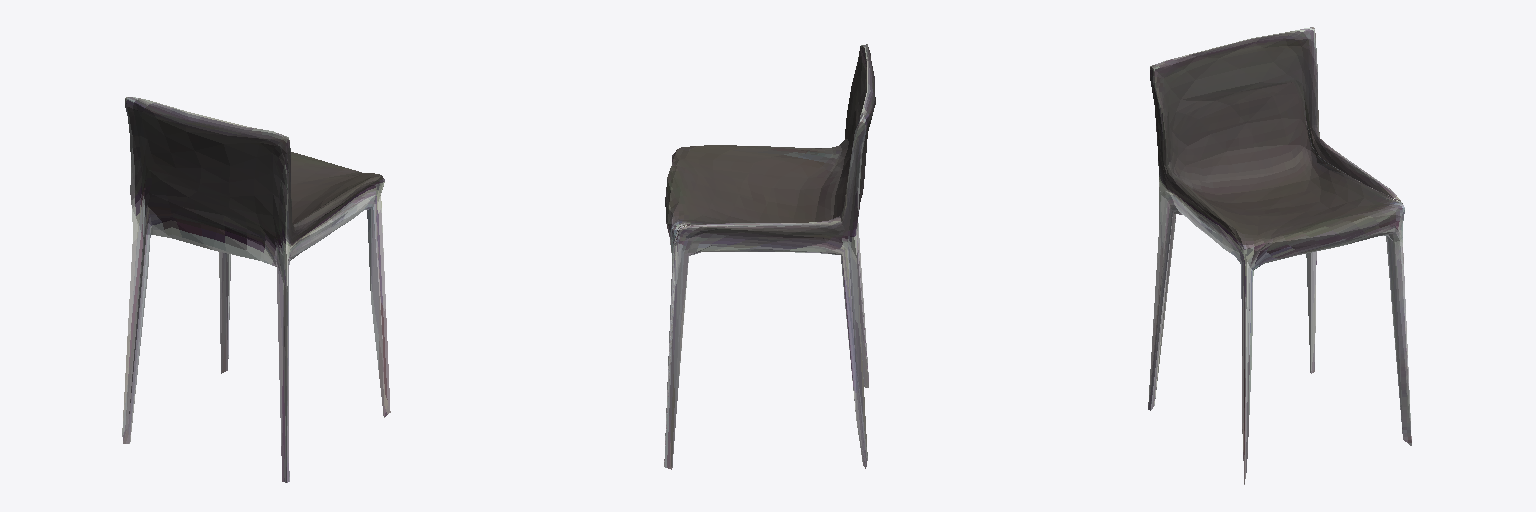
3 views of the same model, side by side, from view 1: azimuth 30°, elevation 25°; view 2: azimuth 150°, elevation 25°; view 3: azimuth 270°, elevation 25° (orthographic).
Bounding box in the file's own units: 0.6939 × 1 × 0.6788.
Materials: 1 (1 with a texture image).